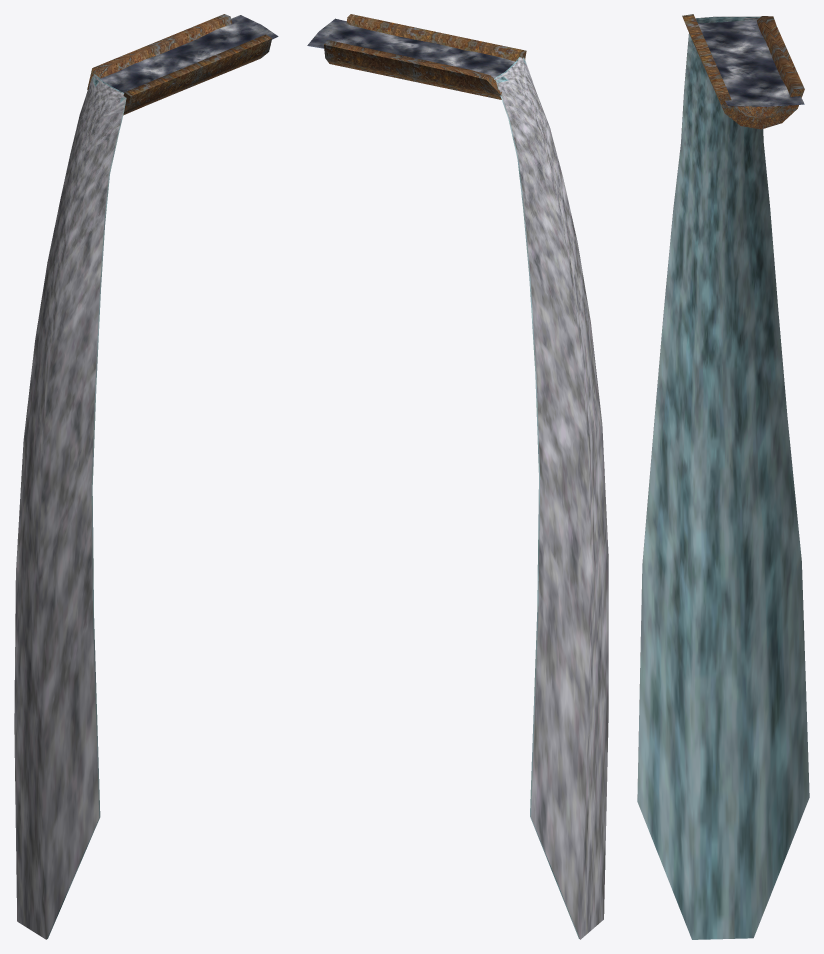
Rendered from INST_SM_WATERFALL.fbx.
3 views of the same model, side by side, from view 1: azimuth 30°, elevation 25°; view 2: azimuth 150°, elevation 25°; view 3: azimuth 270°, elevation 25° (orthographic). The views are drawn at different scales.
Parts seen in each view (by area): view 1: INST_SM_WATERFALL; view 2: INST_SM_WATERFALL; view 3: INST_SM_WATERFALL.
Boxes of the visible parts, <box> form: INST_SM_WATERFALL: <box>14,14,278,939</box>; INST_SM_WATERFALL: <box>307,14,608,939</box>; INST_SM_WATERFALL: <box>637,14,809,939</box>.
Size of the model in its own units: 124396 by 388389 by 61828.
5 materials, 5 textured.
